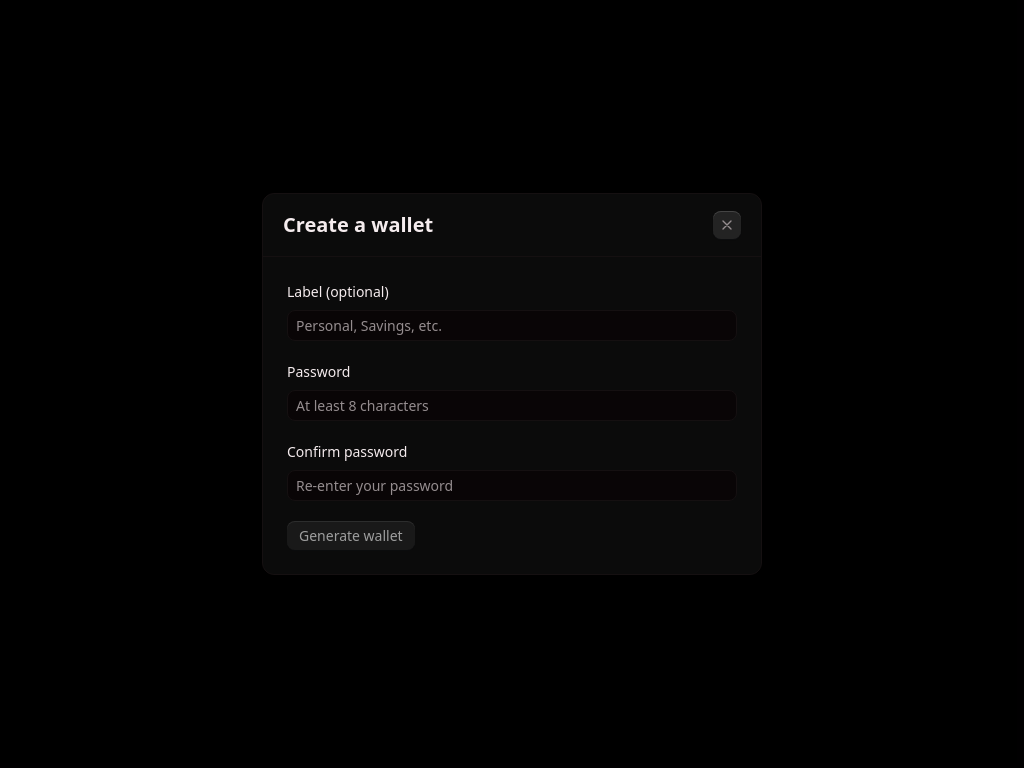
it: CreateWalletForm › should handle encryption errors
The image size is (1024, 768).
Step 1. Type "password123" into the password field labelled "Password" → (512, 406), box [287,390,737,421]
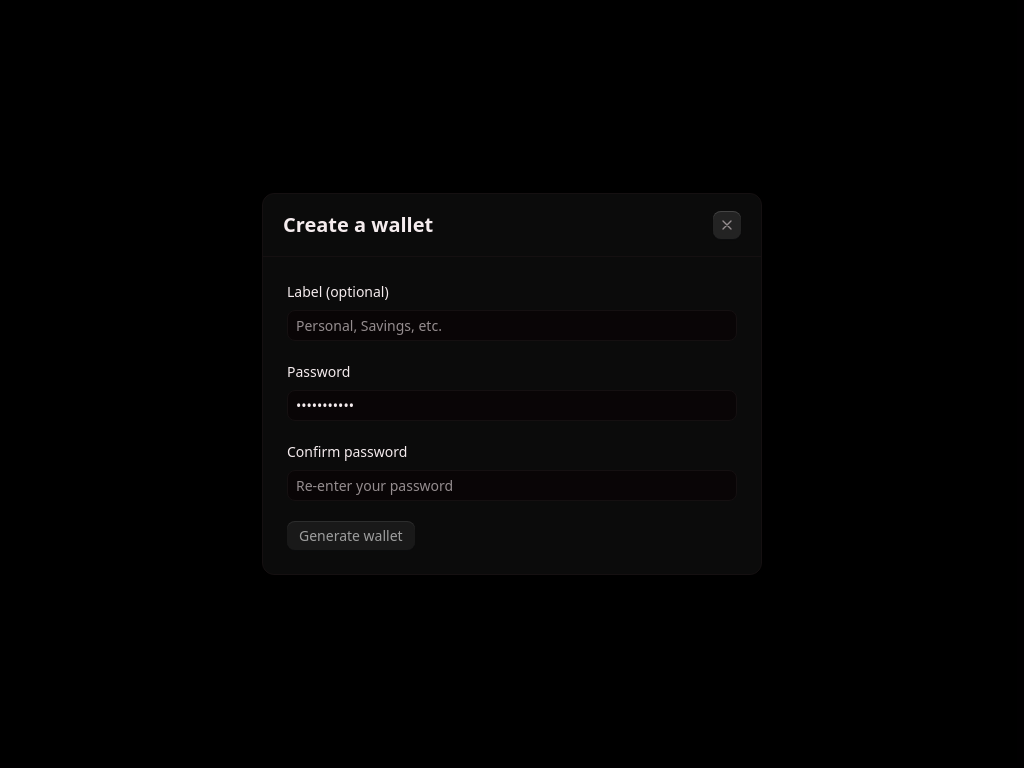
Step 2. Type "password123" into the password field labelled "Confirm password" → (512, 486), box [287,470,737,501]
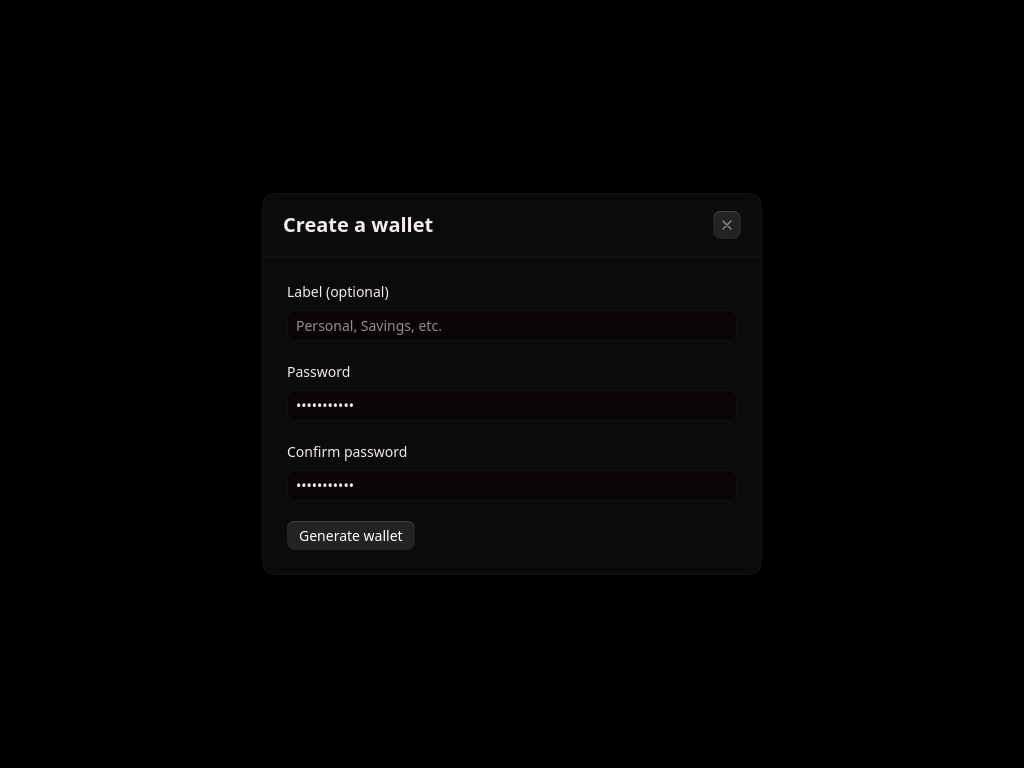
Step 3. Click the button "Generate wallet" → (351, 536), box [287,521,415,550]
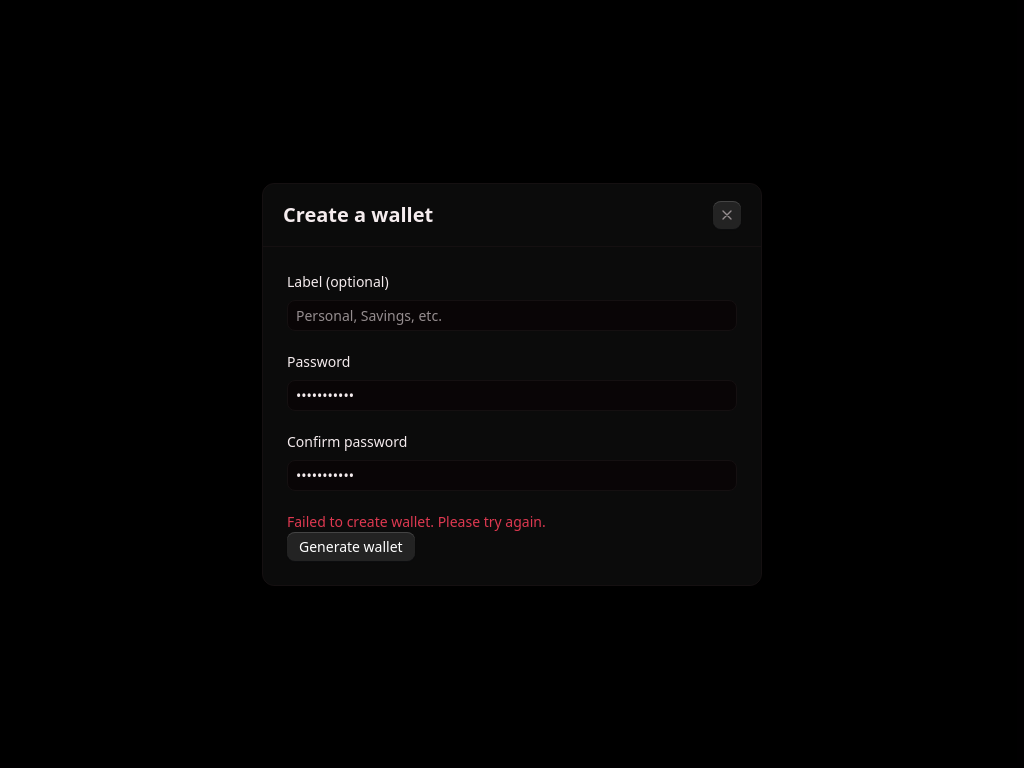
Now the message shows "Failed to create wallet", box [287,512,546,530]
